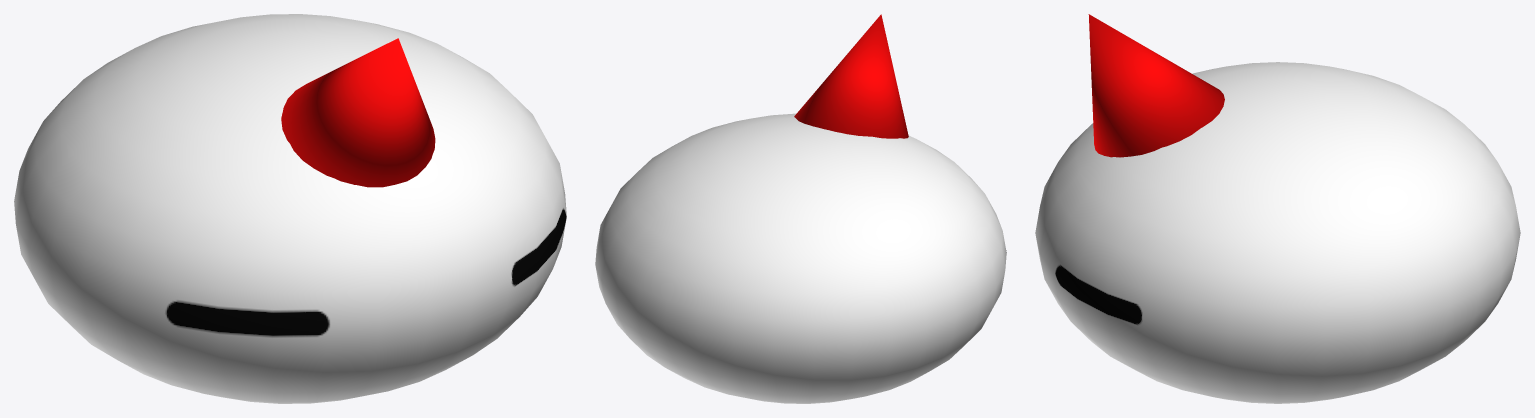
Rendered from slimeEnemy.obj.
3 views of the same model, side by side, from view 1: azimuth 30°, elevation 25°; view 2: azimuth 150°, elevation 25°; view 3: azimuth 270°, elevation 25° (orthographic). The views are drawn at different scales.
Parts seen in each view (by area): view 1: 球, 円錐; view 2: 球, 円錐; view 3: 球, 円錐.
Boxes of the visible parts, x1,y1,x2,y2 form: 球: (14, 14, 566, 403); 円錐: (281, 38, 435, 187); 球: (595, 113, 1006, 403); 円錐: (794, 14, 908, 138); 球: (1035, 62, 1520, 403); 円錐: (1088, 14, 1224, 157).
Size of the model in its own units: 2 by 1.62 by 2.
1 material, 1 textured.
